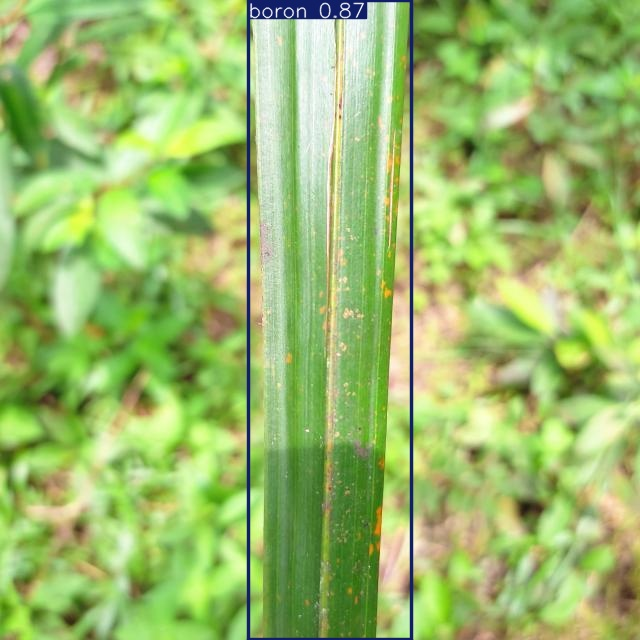nitrogen: (249, 0, 411, 640)
